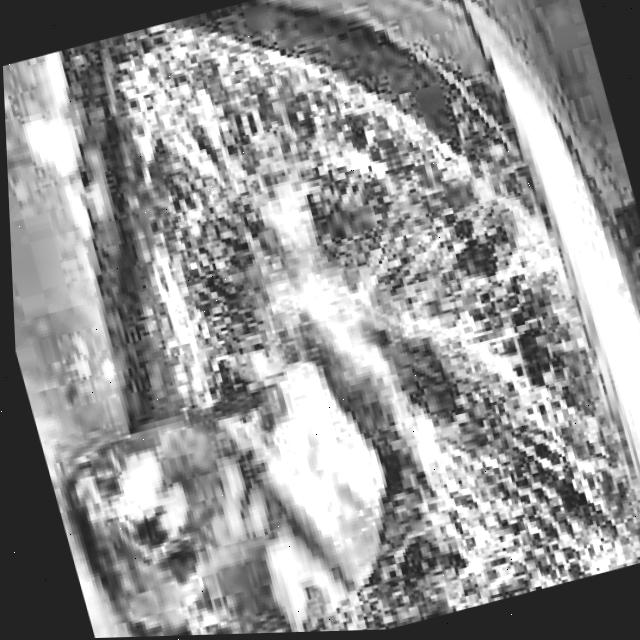glass_shatter: (166, 0, 468, 194), (233, 182, 436, 384)
